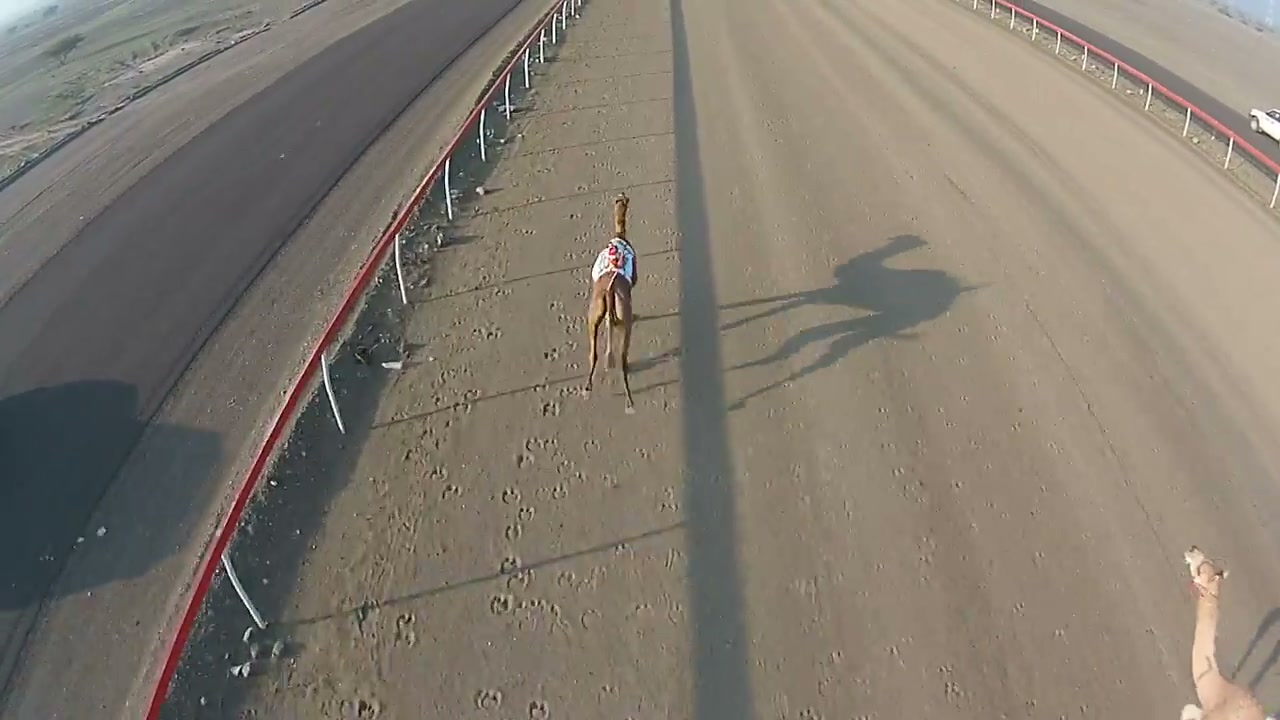animal_footprint: (322, 251, 482, 718), (460, 328, 560, 719)
